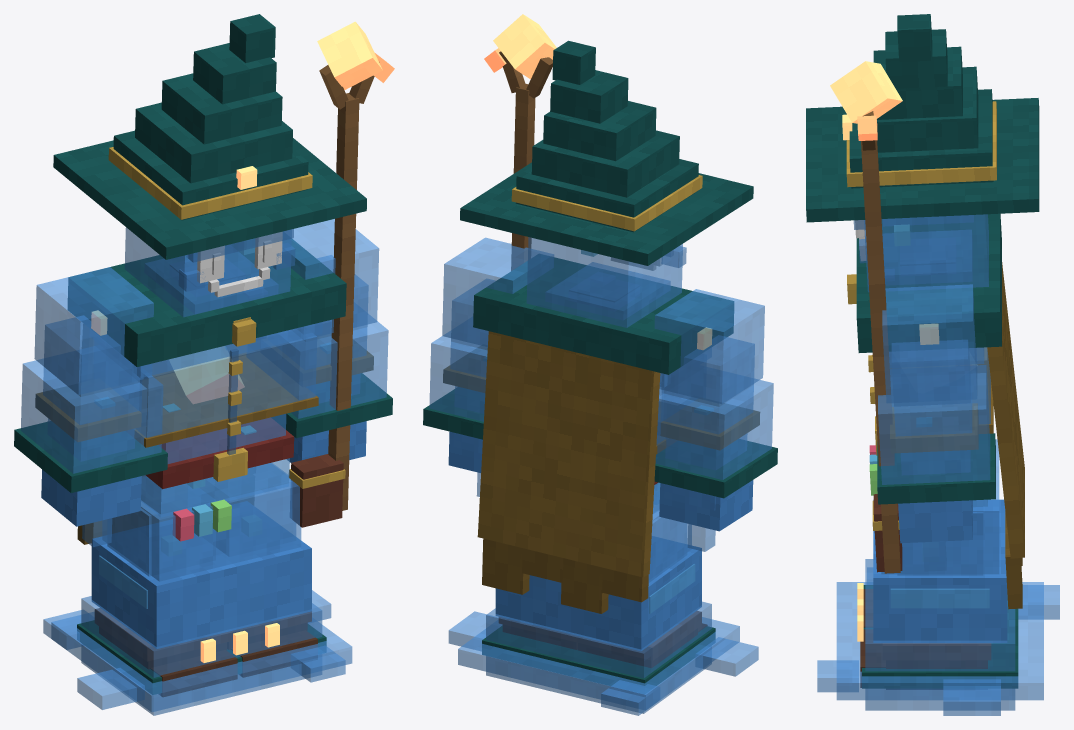
File: slime_mage_v2.glb
3 renders of one model, left to right at view 1: azimuth 30°, elevation 25°; view 2: azimuth 150°, elevation 25°; view 3: azimuth 270°, elevation 25°, orthographic. The views are drawn at different scales.
Visible parts, largest first — view 1: Root, Head, Torso, ArmR, ArmL, LegR, HandL, LegL; view 2: Torso, Head, Root, ArmR, ArmL, HandL, LegR, LegL; view 3: Head, Root, ArmL, Torso, HandL, LegL, ArmR.
Part boxes in pixels (<box>): Root: <box>43,463,352,715</box>; Head: <box>53,14,366,340</box>; Torso: <box>67,239,346,544</box>; ArmR: <box>14,267,167,546</box>; ArmL: <box>246,219,392,462</box>; LegR: <box>95,502,237,696</box>; HandL: <box>317,21,394,510</box>; LegL: <box>216,463,317,677</box>; Torso: <box>473,257,733,613</box>; Head: <box>460,40,753,327</box>; Root: <box>448,484,758,715</box>; ArmR: <box>654,289,777,551</box>; ArmL: <box>423,237,553,496</box>; HandL: <box>484,14,556,270</box>; LegR: <box>578,511,707,667</box>; LegL: <box>499,617,577,649</box>; Head: <box>806,14,1039,292</box>; Root: <box>817,439,1059,715</box>; ArmL: <box>877,284,995,571</box>; Torso: <box>847,213,1024,609</box>; HandL: <box>830,61,902,573</box>; LegL: <box>860,507,990,687</box>; ArmR: <box>883,215,973,226</box>.
Size of the model in its own units: 1.2 by 2.3 by 0.7954.
Materials: 29 (29 with a texture image).
